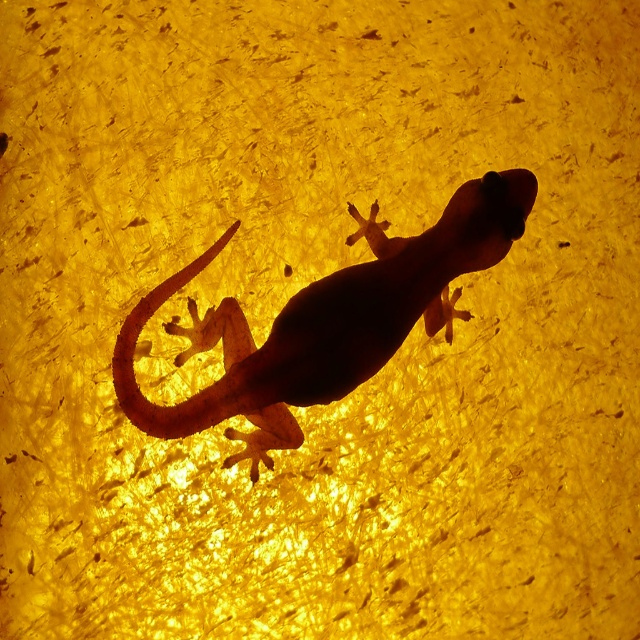Lizard: (111, 163, 538, 483)
